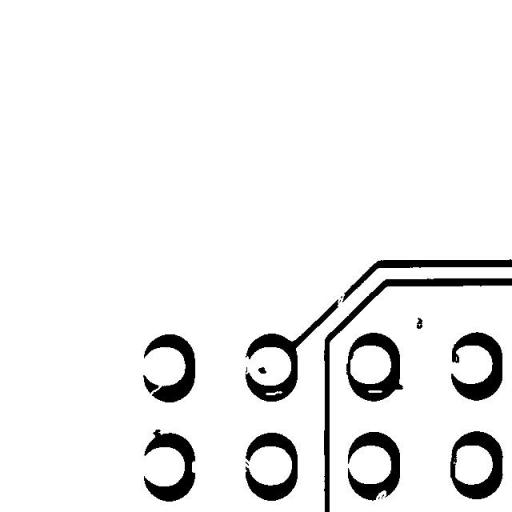copper: (408, 310, 430, 336), (250, 359, 274, 381)
mousebite: (364, 482, 394, 512), (184, 453, 204, 480)
open: (138, 376, 174, 403), (234, 348, 260, 382), (234, 448, 259, 479), (330, 282, 352, 314)
pin-hole: (258, 384, 290, 402), (360, 382, 390, 400)
short: (442, 438, 465, 486), (338, 342, 361, 384)
spur: (444, 336, 466, 370), (385, 372, 410, 397), (145, 422, 168, 447)
